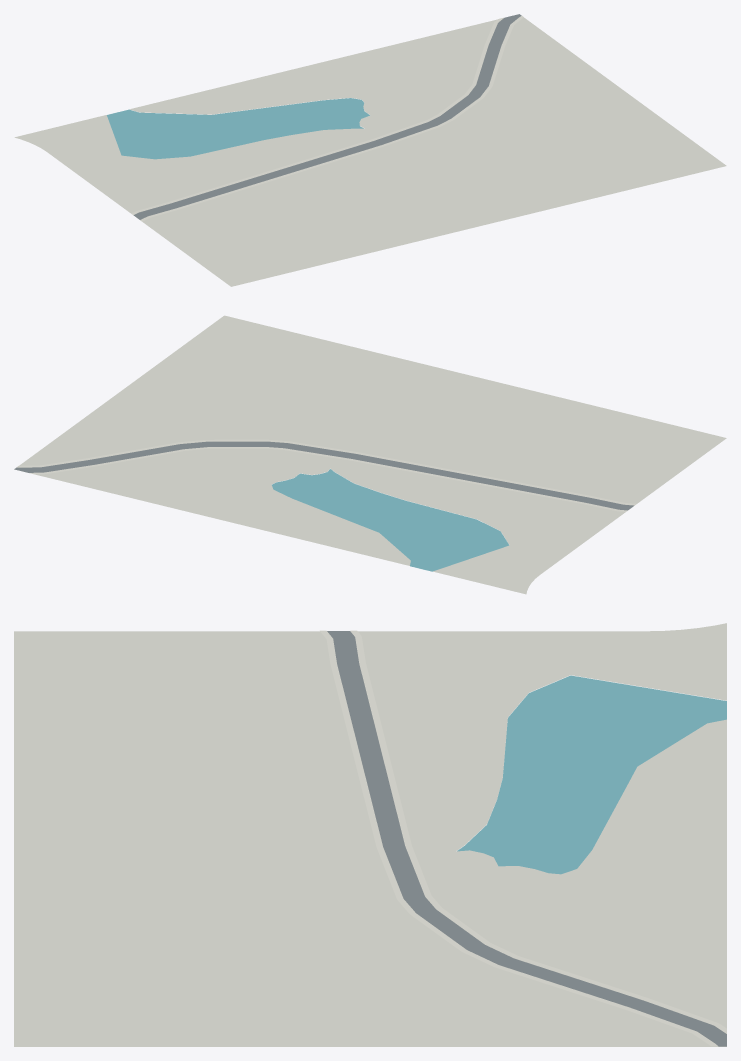
3 renders of one model, top to bottom at view 1: azimuth 30°, elevation 25°; view 2: azimuth 150°, elevation 25°; view 3: azimuth 270°, elevation 25°, orthographic. The views are drawn at different scales.
Visible parts, largest first — view 1: city; view 2: city; view 3: city.
Part boxes in pixels (box(x1,y1,x2,y2)): city: box(14, 14, 726, 286); city: box(14, 315, 726, 594); city: box(14, 623, 726, 1046).
Bounding box in the file's own units: 451 × 0.4 × 321.
